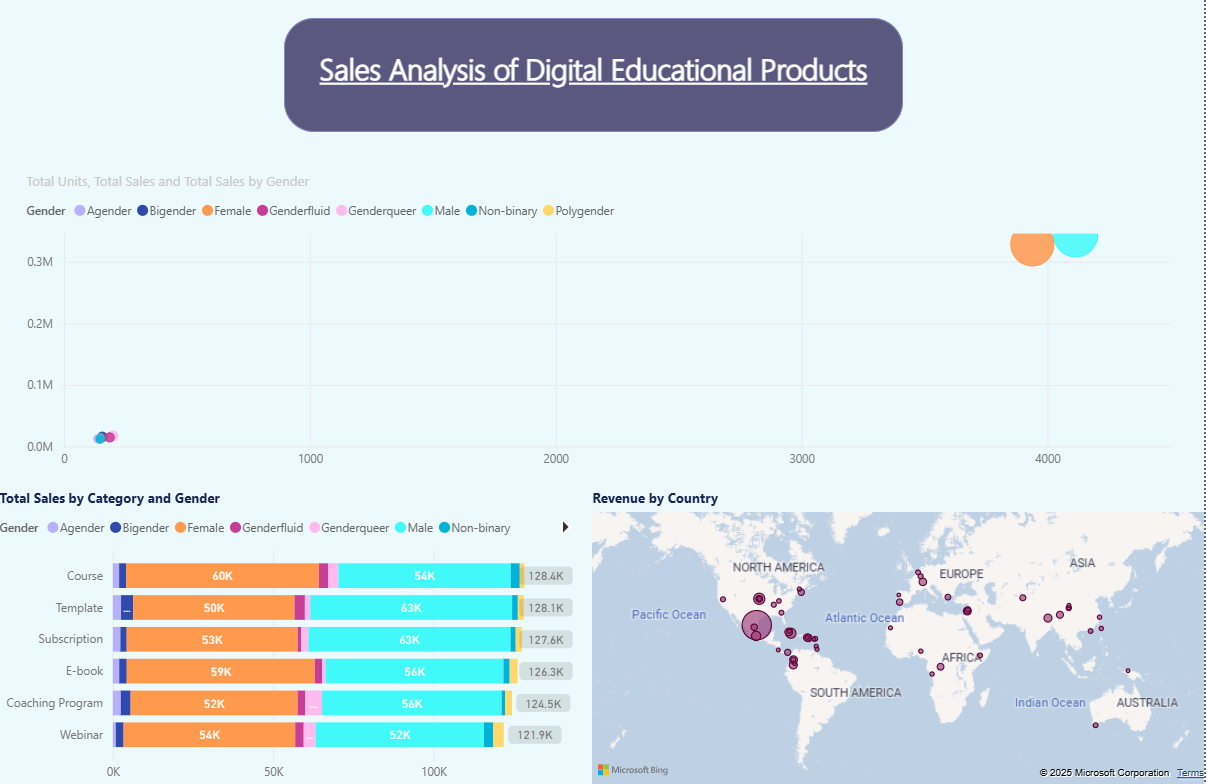

Layout of this report page (visuals, bound fields, positions):
{"tool":"powerbi","page":{"name":"Customer Segmentation Insights","canvas":[1100,720],"ordinal":1},"visuals":[{"type":"shape","box":[263.6,17.3,562.7,103.6],"z":0},{"type":"barChart","fields":{"Y":["Sheet1.Total Sales"],"Category":["Sheet1.Category"],"Series":["Sheet1.Gender"]},"box":[0,445.5,539.1,274.5],"z":1000},{"type":"map","title":"Revenue by Country","fields":{"Size":["Sheet1.Total Sales"],"Category":["Sheet1.Customer_Country"]},"box":[539.1,445.5,590.9,274.5],"z":2000},{"type":"textbox","box":[280.9,40,528.2,57.3],"z":3000},{"type":"scatterChart","fields":{"Series":["Sheet1.Gender"],"X":["Sheet1.Total Units"],"Y":["Sheet1.Total Sales"],"Size":["Sheet1.Total Sales"]},"box":[24.5,157.3,1061.8,278.2],"z":4000}]}

Visuals, with their boxes in screenshot pixels (x1, y1, x2, y2), scaled from the page's 1100x720 canvas onto the 1207x784 screenshot:
shape: x1=289, y1=19, x2=907, y2=132
barChart - Sheet1.Total Sales x Sheet1.Category: x1=0, y1=485, x2=592, y2=783
"Revenue by Country" map: x1=592, y1=485, x2=1206, y2=783
textbox: x1=308, y1=44, x2=888, y2=106
scatterChart - Sheet1.Gender x Sheet1.Total Units: x1=27, y1=171, x2=1192, y2=474
